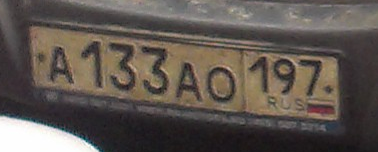character: (140, 42, 170, 97), (109, 39, 138, 94), (80, 36, 105, 92), (207, 63, 239, 104), (175, 60, 203, 104), (47, 44, 76, 86), (295, 54, 322, 99), (247, 52, 272, 97), (272, 53, 296, 97)
